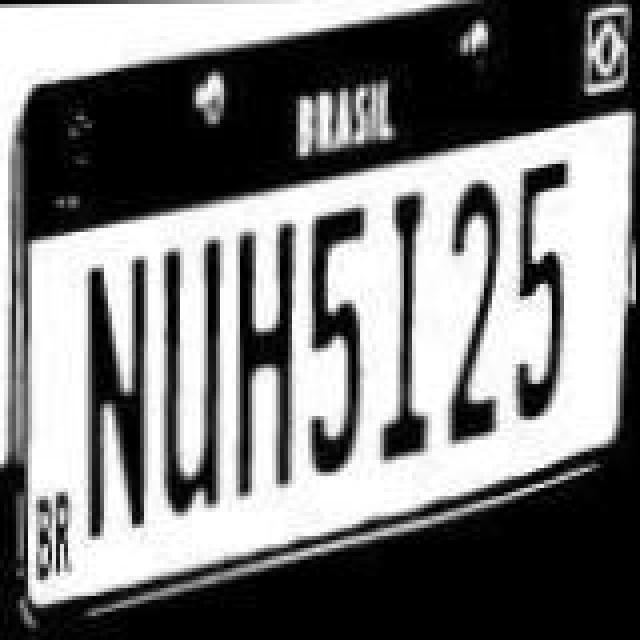2: (438, 170, 514, 454)
5: (302, 204, 370, 480), (516, 150, 580, 426)
H: (232, 222, 304, 494)
I: (378, 184, 446, 472)
N: (82, 254, 162, 562)
U: (154, 230, 234, 530)
